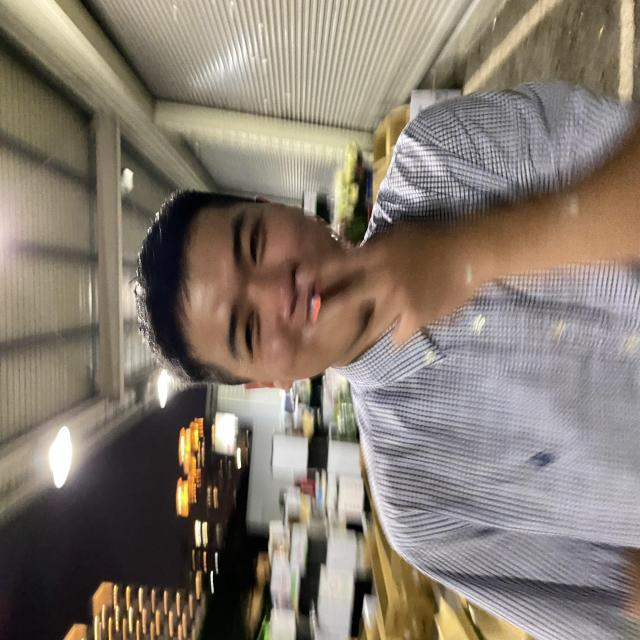cigarette: (300, 275, 336, 332)
